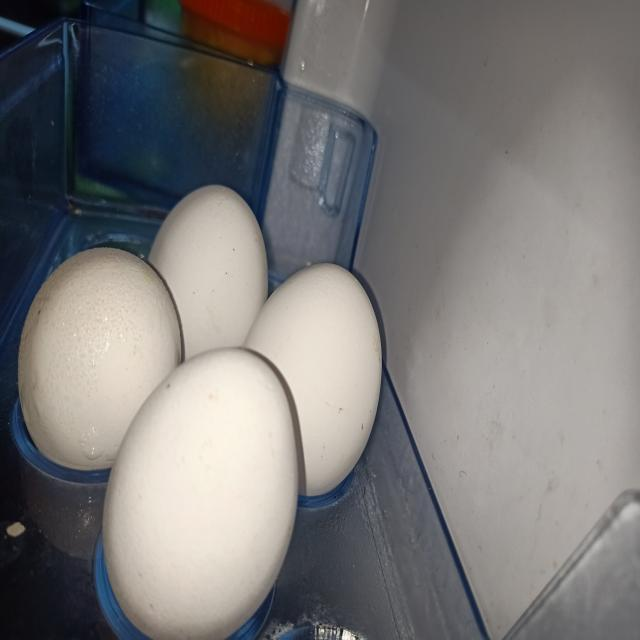Egg: (102, 348, 298, 639), (17, 247, 181, 470), (244, 263, 382, 495), (148, 184, 268, 360)
